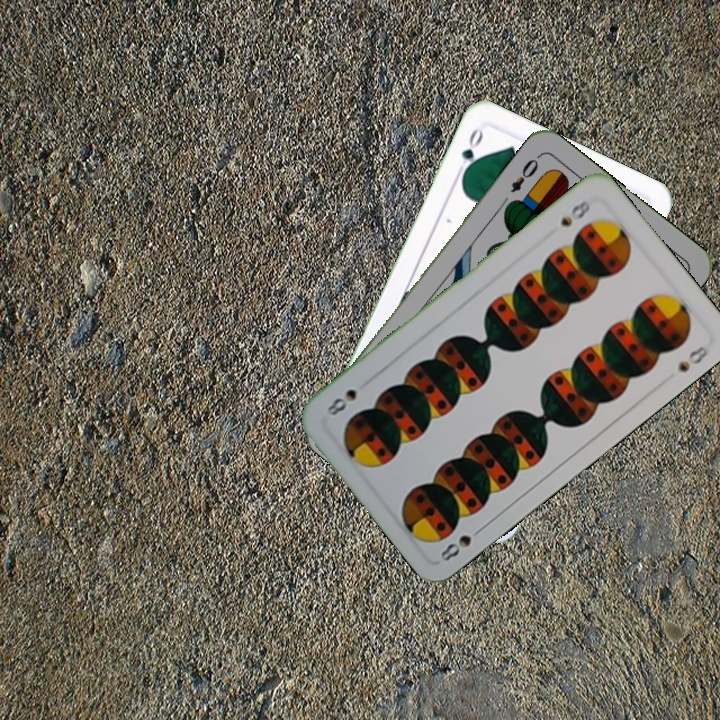EO: (506, 151, 543, 196)
GO: (452, 124, 486, 181)
S8: (436, 522, 487, 564), (556, 196, 598, 230)
